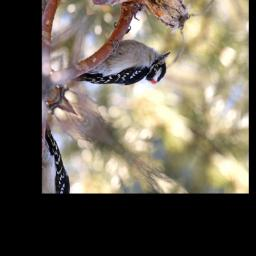Woodpecker: (71, 8, 176, 127)
